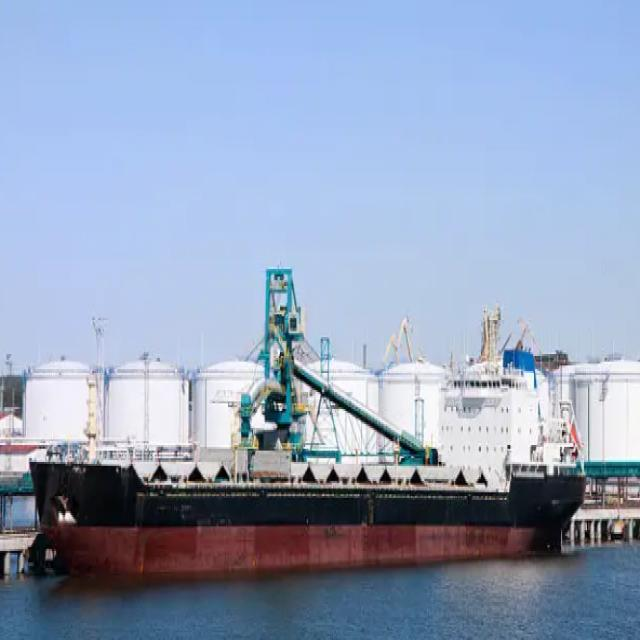cargoship: (32, 348, 582, 582)
